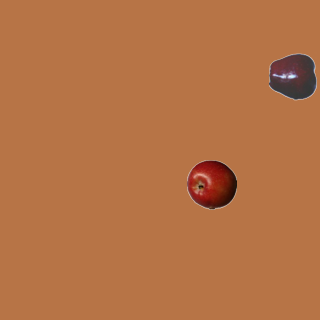Apple Braeburn: (186, 159, 236, 209)
Apple Red Delicious: (268, 51, 318, 101)
